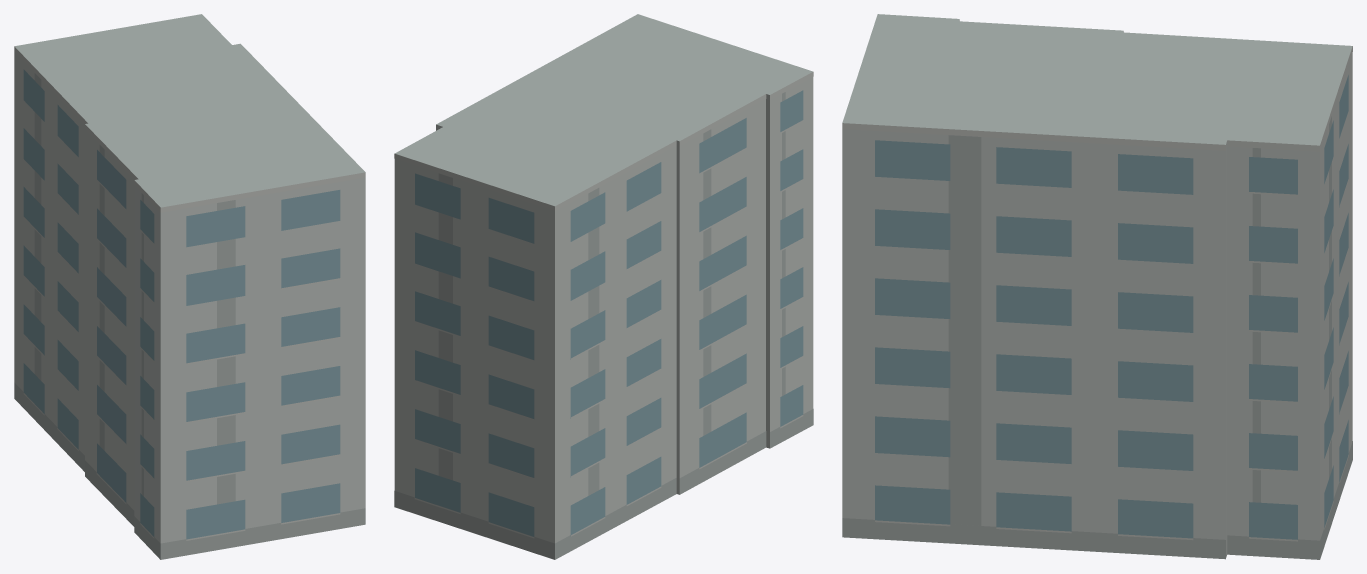
The model's file is survey-upis-32564130.glb.
3 views of the same model, side by side, from view 1: azimuth 30°, elevation 25°; view 2: azimuth 150°, elevation 25°; view 3: azimuth 270°, elevation 25° (orthographic). The views are drawn at different scales.
Parts seen in each view (by area): view 1: survey-upis-32564130.tmp; view 2: survey-upis-32564130.tmp; view 3: survey-upis-32564130.tmp.
Part boxes in pixels (x1,y1,x2,y2): survey-upis-32564130.tmp: [14, 14, 365, 559]; survey-upis-32564130.tmp: [394, 14, 813, 559]; survey-upis-32564130.tmp: [842, 14, 1352, 559].
Size of the model in its own units: 11.39 by 16.7 by 18.66.
